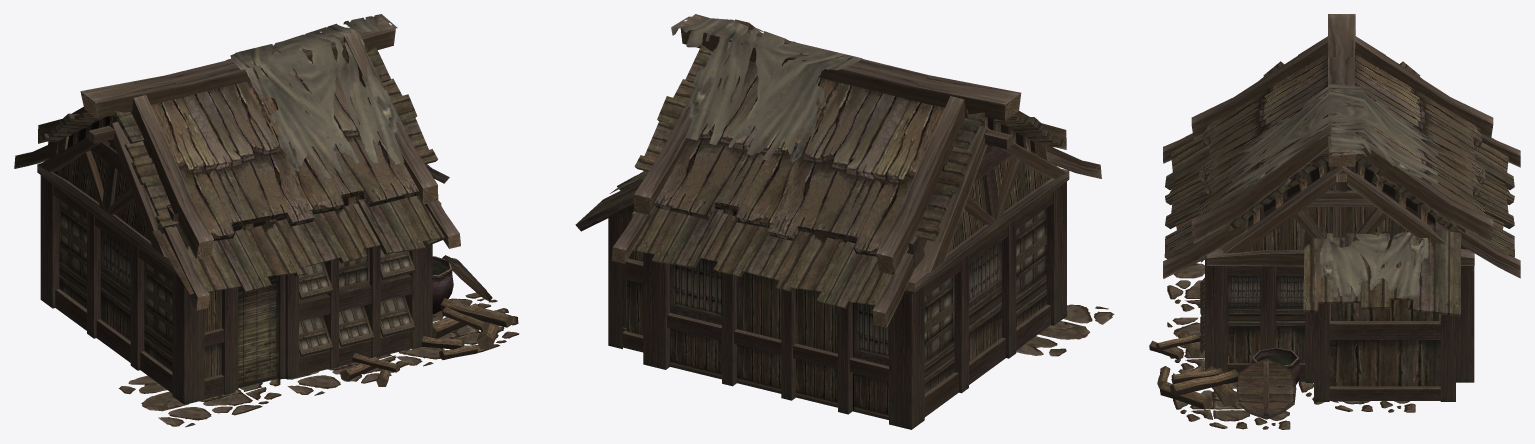
File: s7_pveobjecvol2_uv.FBX
The picture shows the model from 3 angles, left to right: view 1: azimuth 30°, elevation 25°; view 2: azimuth 150°, elevation 25°; view 3: azimuth 270°, elevation 25°; orthographic projection. The views are drawn at different scales.
Visible parts, largest first — view 1: s7_pve_fight_chalet; view 2: s7_pve_fight_chalet; view 3: s7_pve_fight_chalet.
Part boxes in pixels (x1,y1,x2,y2): s7_pve_fight_chalet: (14,14,519,427); s7_pve_fight_chalet: (575,14,1114,429); s7_pve_fight_chalet: (1149,14,1520,429).
Size of the model in its own units: 6.56 by 4.49 by 6.01.
